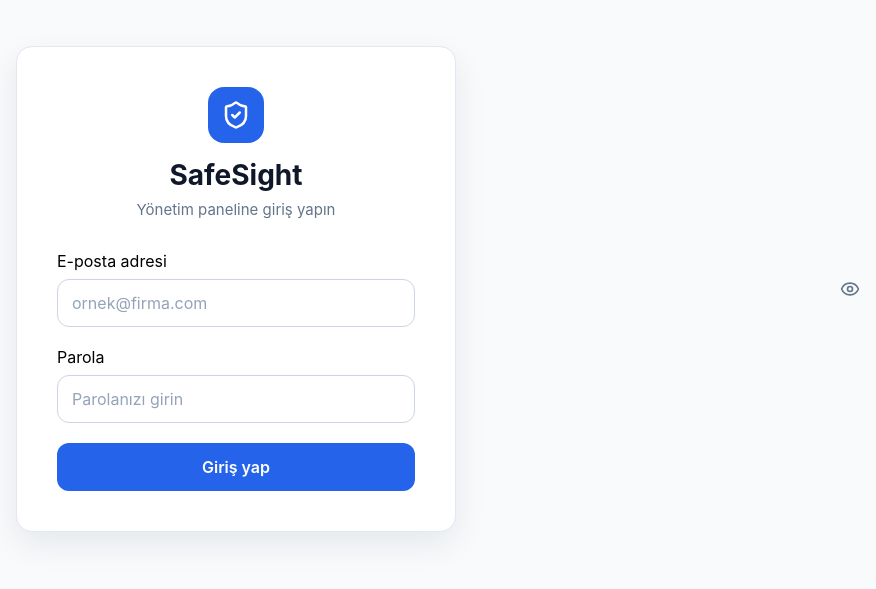
it: LoginPage › does not complete login when user hydration fails
The width and height of the screenshot is (876, 589).
Type "user@example.com" into the field labelled "E-posta adresi" at (236, 303), box 57,279 -> 415,327
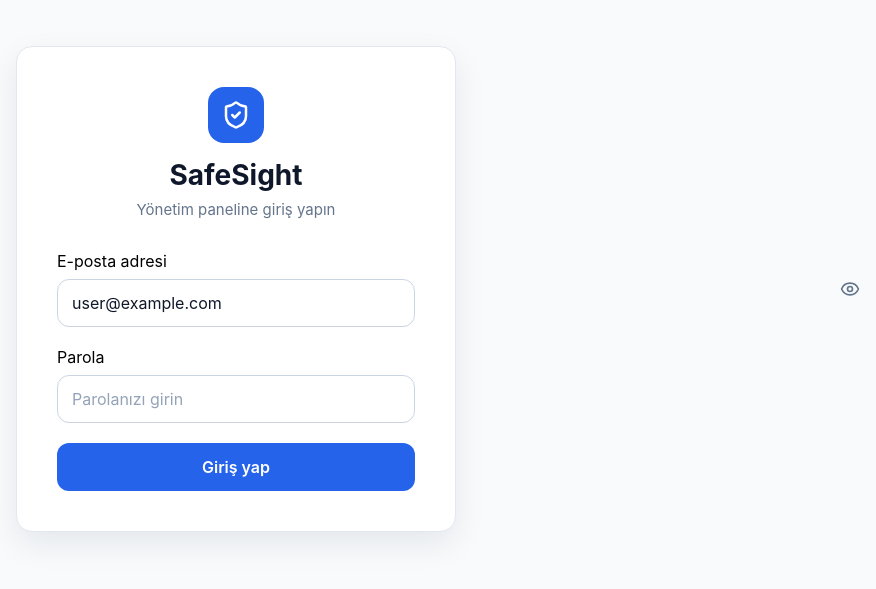
Type "password" into the password field labelled "Parola" at (236, 399), box 57,375 -> 415,423
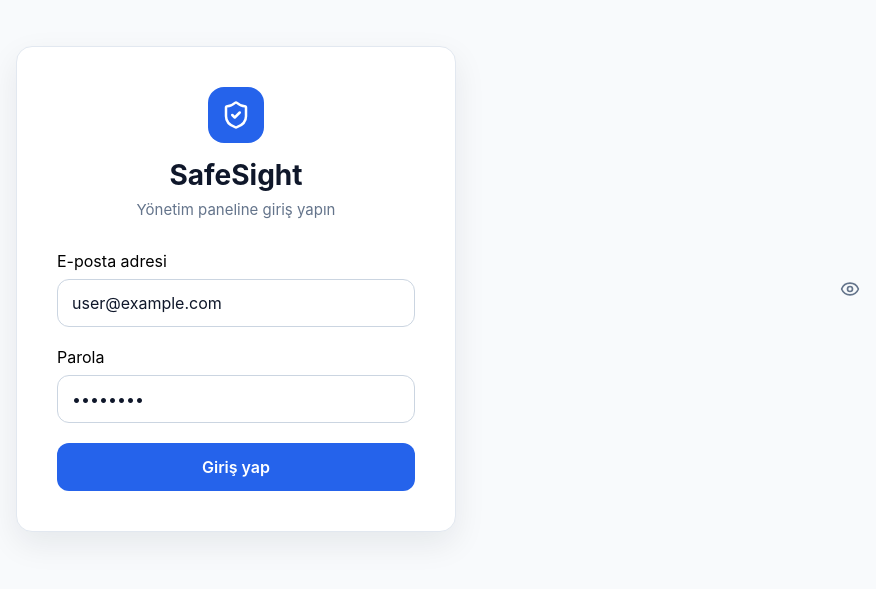
Click the button "Giriş yap" at (236, 467), box 57,443 -> 415,491
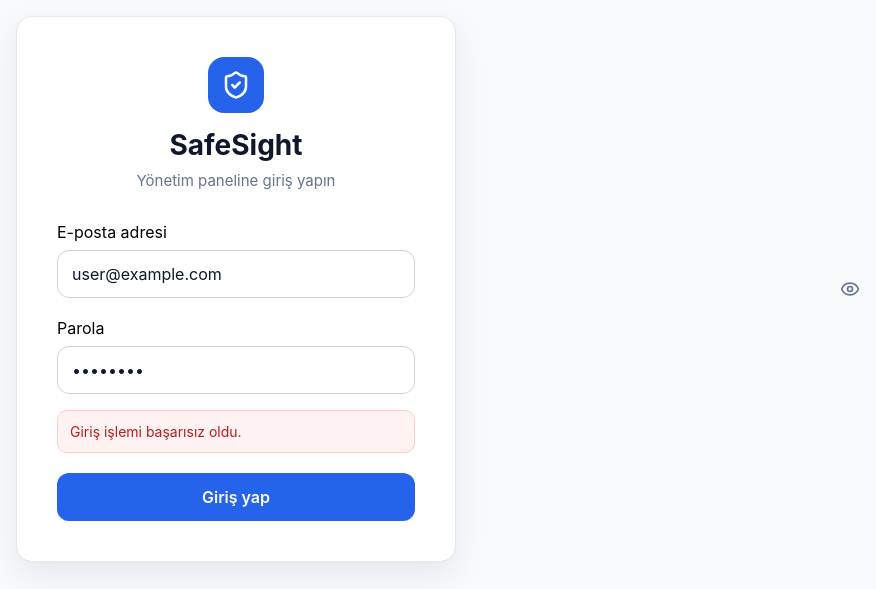
expect the message "Giriş işlemi başarısız oldu." is shown: met, box 57,410 -> 415,453
